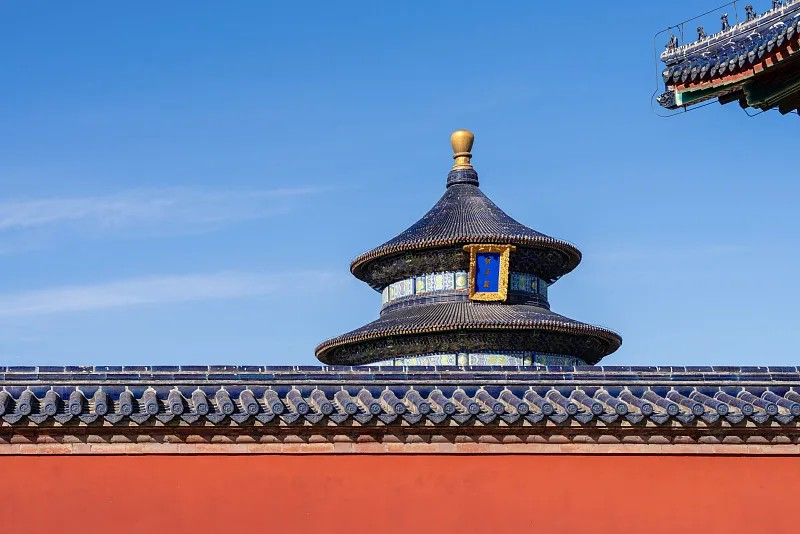Heaven: (313, 128, 623, 369)
